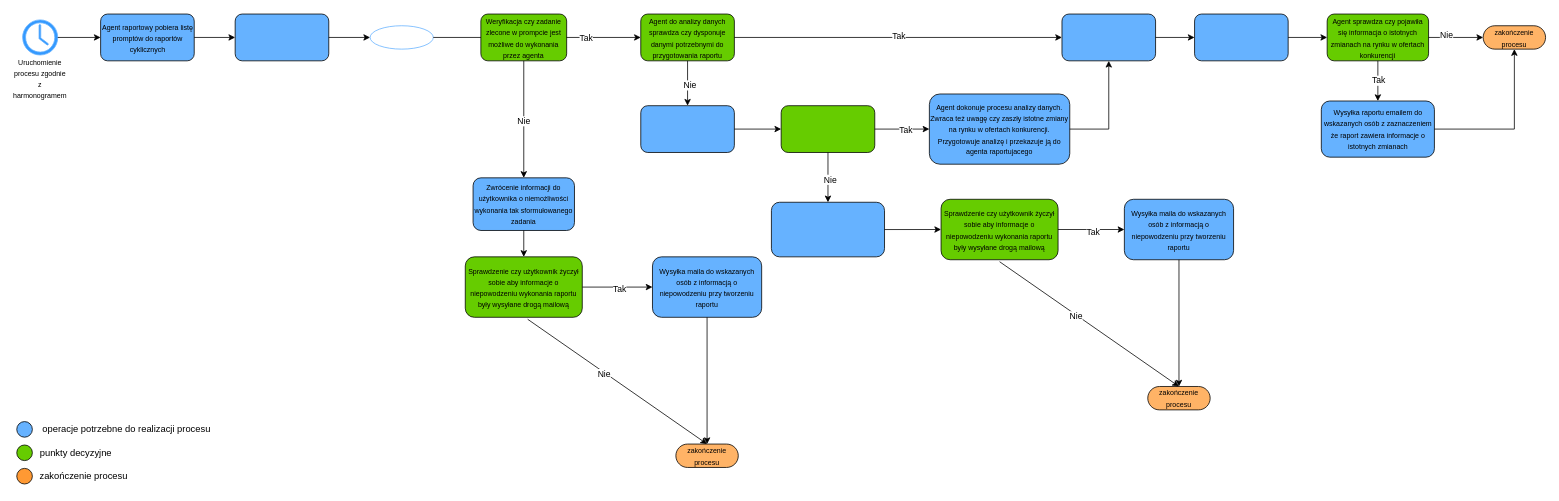
This 1559x501 diagram has some shape labels left out. Here are the shapes that lost their labels. From the top down, the centre of each, then its label:
At (x=281, y=37): "Przekazywanie kolejnych promtóww celu wykonywania ich po koleji".
At (x=401, y=37): "PROMPT".
At (x=1108, y=37): "Agent do raportowania przygotowuje raport".
At (x=1241, y=37): "Zapisanie raportu na dysku. Użytkownik ma do niego dostęp z poziomu interfejsu".
At (x=687, y=128): "Agent do zbierania danych podejmuje próbę pobrania potrzebnych danych".
At (x=827, y=128): "Agent do analizy danych sprawdza czy udało się pobrać wszystkie potrzebne dane".
At (x=828, y=229): "Wyświetlenie w interfejsie użytkownika informacji że raportu nie można wykonać".
